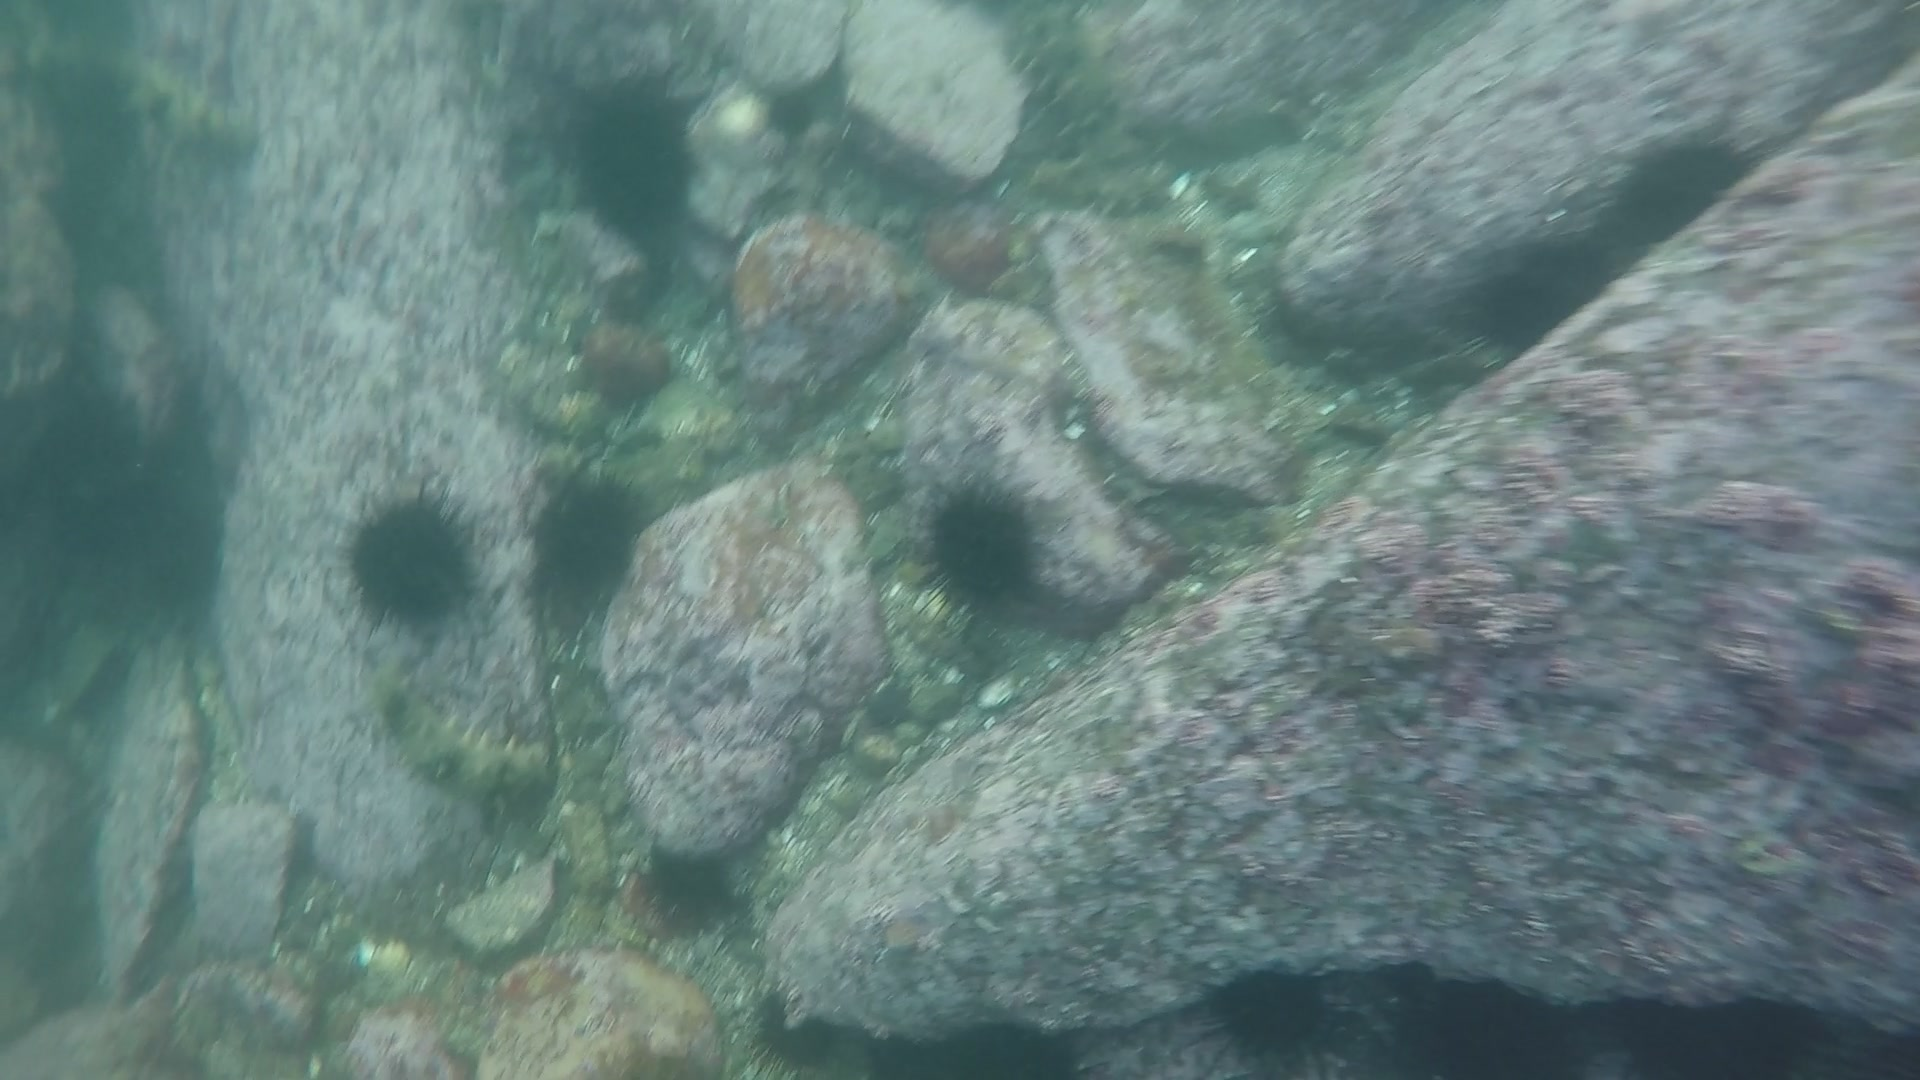echinus: (553, 87, 711, 225), (339, 491, 483, 622), (1402, 967, 1571, 1076), (1601, 135, 1754, 251), (911, 483, 1040, 605), (1644, 978, 1791, 1080), (1477, 241, 1613, 349), (527, 475, 665, 580), (1185, 953, 1315, 1054), (645, 833, 754, 932), (740, 984, 851, 1068)
holothurian: (1, 1, 264, 175), (364, 679, 549, 803), (1004, 32, 1116, 146)
scallop: (719, 88, 771, 141)
